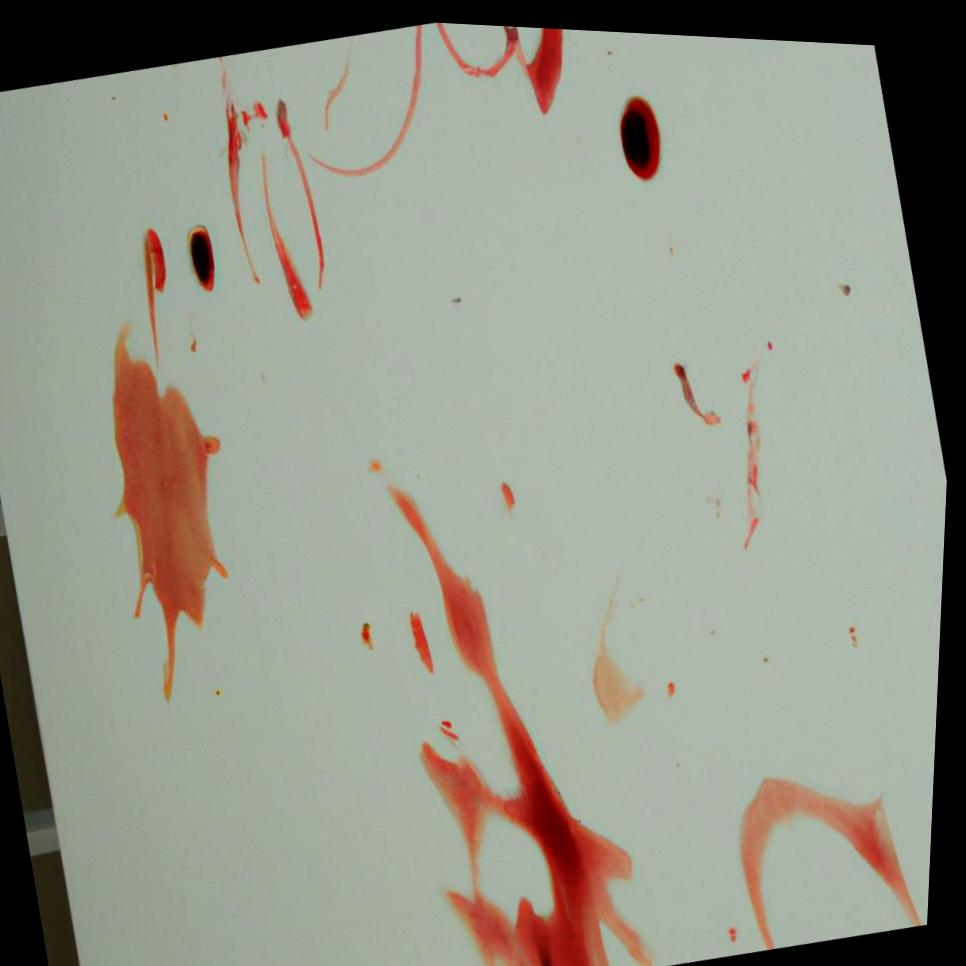Fire: (621, 87, 662, 172), (189, 221, 218, 289)
